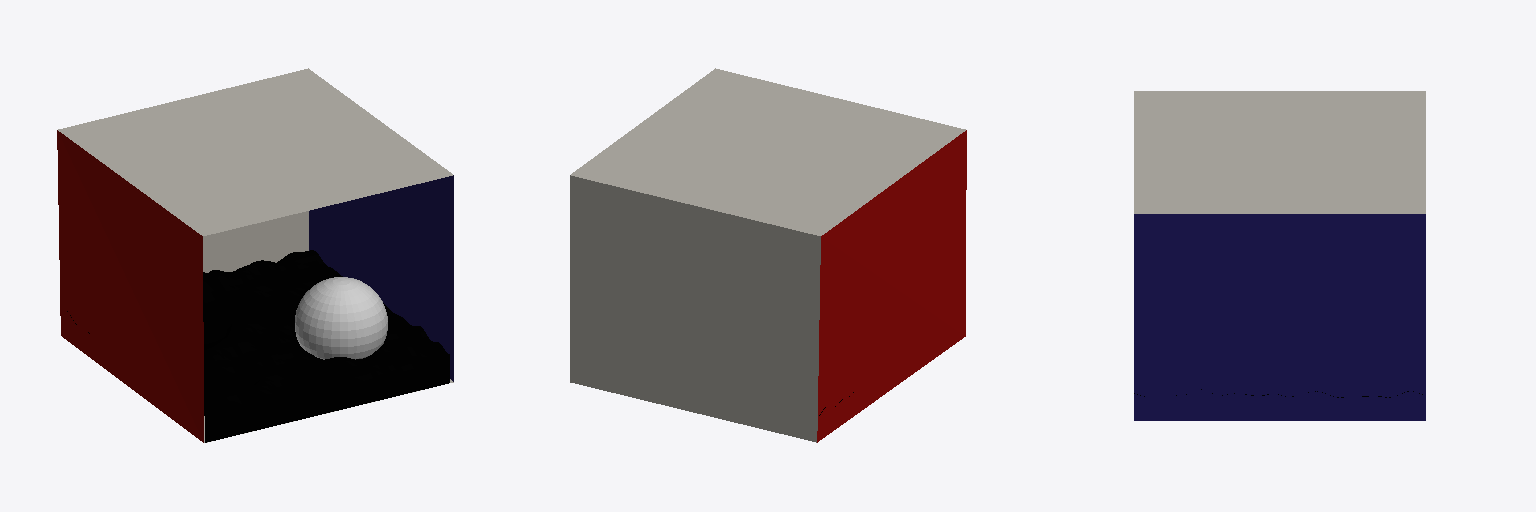
The model's file is CornellBox-Water.obj.
3 renders of one model, left to right at view 1: azimuth 30°, elevation 25°; view 2: azimuth 150°, elevation 25°; view 3: azimuth 270°, elevation 25°, orthographic.
Visible parts, largest first — view 1: ceiling, leftWall, water, rightWall, rightSphere, backWall, leftSphere; view 2: backWall, ceiling, leftWall; view 3: rightWall, ceiling.
Boxes of the visible parts, x1,y1,x2,y2 form: ceiling: [58, 68, 452, 235]; leftWall: [57, 130, 203, 442]; water: [67, 250, 449, 442]; rightWall: [309, 175, 453, 381]; rightSphere: [295, 277, 387, 359]; backWall: [203, 211, 308, 272]; leftSphere: [203, 272, 232, 349]; backWall: [570, 175, 820, 442]; ceiling: [571, 68, 965, 235]; leftWall: [817, 130, 966, 442]; rightWall: [1134, 214, 1425, 420]; ceiling: [1134, 91, 1425, 213].
Size of the model in its own units: 2.02 by 1.59 by 2.03.